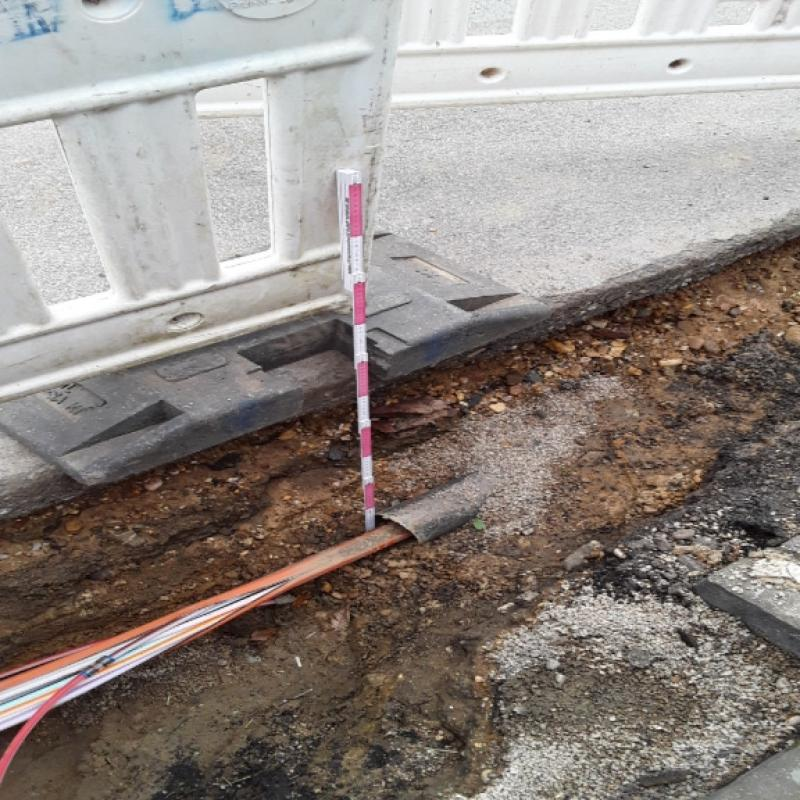Orang-Speednetrohrchen: (0, 531, 397, 732)
